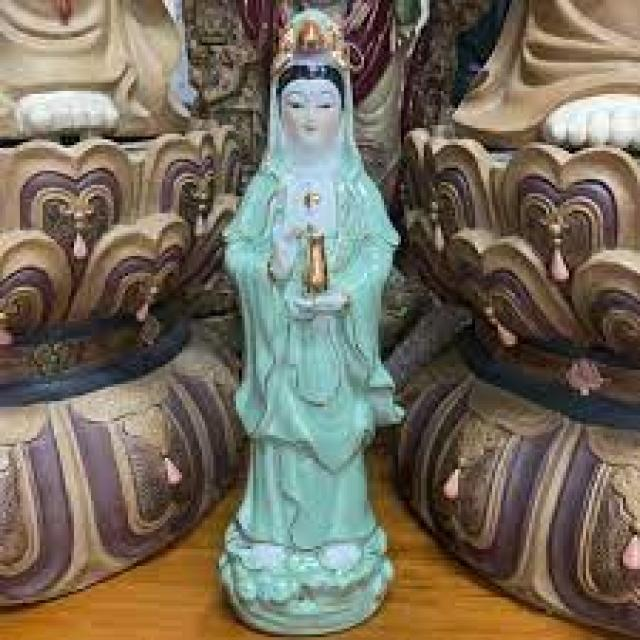Guan Yin: (230, 18, 396, 423)
